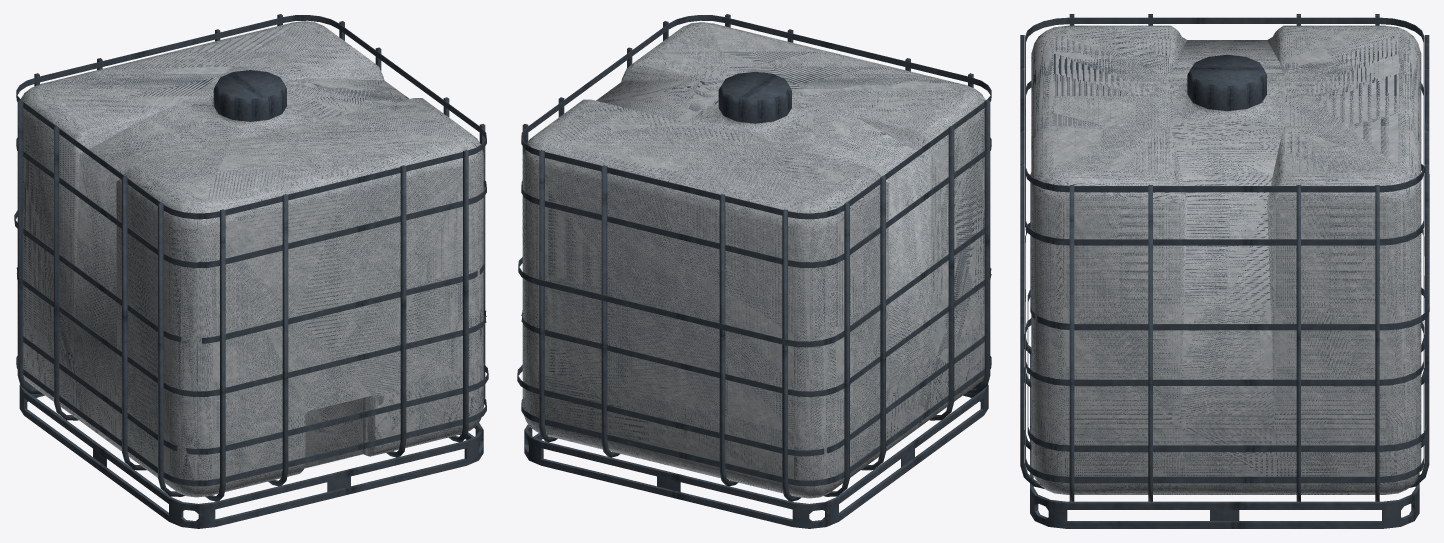
File: Water_Can.fbx
The picture shows the model from 3 angles, left to right: view 1: azimuth 30°, elevation 25°; view 2: azimuth 150°, elevation 25°; view 3: azimuth 270°, elevation 25°; orthographic projection. The views are drawn at different scales.
Parts seen in each view (by area): view 1: Model; view 2: Model; view 3: Model.
Part boxes in pixels (x1,y1,x2,y2): Model: (14,14,488,528); Model: (517,14,991,528); Model: (1020,14,1429,528).
Bounding box in the file's own units: 1820 × 1847 × 1822.
